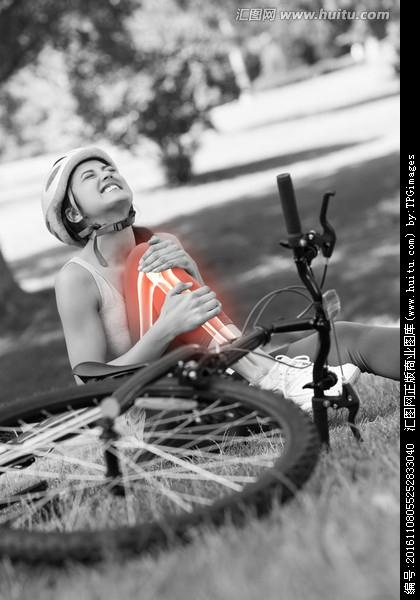falling: (37, 119, 396, 419)
